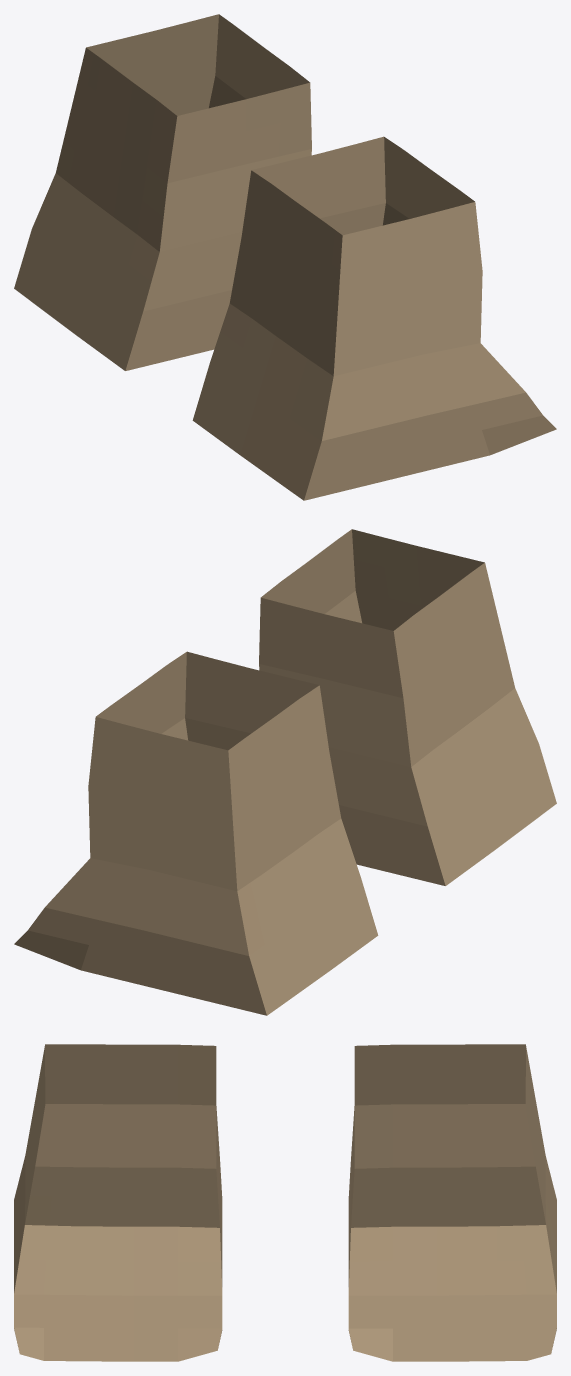
Rendered from beigeshoes.glb.
The picture shows the model from 3 angles, top to bottom: view 1: azimuth 30°, elevation 25°; view 2: azimuth 150°, elevation 25°; view 3: azimuth 270°, elevation 25°; orthographic projection. The views are drawn at different scales.
Parts seen in each view (by area): view 1: Plane.001; view 2: Plane.001; view 3: Plane.001.
Boxes of the visible parts, x1,y1,x2,y2 form: Plane.001: (14, 14, 556, 500); Plane.001: (14, 529, 556, 1015); Plane.001: (14, 1044, 556, 1361).
Bounding box in the file's own units: 1.4 × 1.27 × 2.75.
